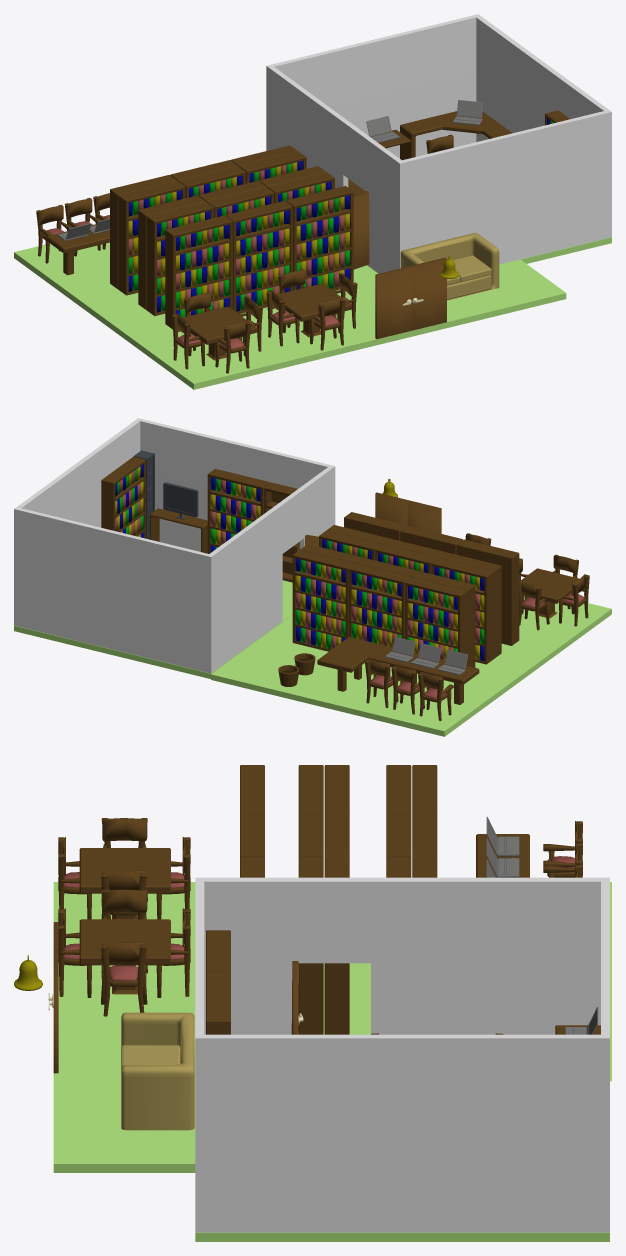
Rendered from blibioteca entera.fbx.
3 views of the same model, one above another, from view 1: azimuth 30°, elevation 25°; view 2: azimuth 150°, elevation 25°; view 3: azimuth 270°, elevation 25° (orthographic). The views are drawn at different scales.
Visible parts, largest first — view 1: Cuarto.Pared, PISO.001, Cuarto.Pared.001, Estante.007, Estante.005, Estante.006, Estante.013, Estante.010, Cuarto.Puerta.002, SOFA Base, Cuarto.Puerta.003, Masa (+25 smaller); view 2: Cuarto.Pared, PISO.001, Cuarto.Pared.001, Estante.016, Estante.015, Estante.014, Estante.002, Estante.020, Mesa Larga, Estante.017, Estante.007, Cuarto PISO (+22 smaller); view 3: Cuarto.Pared, Cuarto.Pared.001, PISO.001, SOFA Base, Cuarto PISO, Mesa.003, Mesa.001, Silla.013, Estante.019, Estante.008, Estante.002, Estante.009 (+22 smaller).
Boxes of the visible parts, x1,y1,x2,y2 form: Cuarto.Pared: [271, 14, 611, 268]; PISO.001: [14, 242, 566, 389]; Cuarto.Pared.001: [266, 64, 404, 273]; Estante.007: [165, 215, 232, 329]; Estante.005: [286, 186, 353, 290]; Estante.006: [226, 200, 293, 313]; Estante.013: [118, 181, 185, 295]; Estante.010: [146, 201, 213, 315]; Cuarto.Puerta.002: [375, 266, 411, 339]; SOFA Base: [400, 233, 499, 300]; Cuarto.Puerta.003: [410, 257, 446, 330]; Masa: [400, 111, 512, 160]; Cuarto.Pared: [14, 418, 330, 672]; PISO.001: [211, 596, 611, 736]; Cuarto.Pared.001: [206, 465, 335, 673]; Estante.016: [292, 550, 355, 651]; Estante.015: [348, 563, 411, 647]; Estante.014: [405, 577, 467, 665]; Estante.002: [207, 468, 270, 553]; Estante.020: [101, 456, 145, 538]; Mesa Larga: [317, 637, 479, 704]; Estante.017: [431, 558, 493, 664]; Estante.007: [456, 539, 519, 645]; Cuarto PISO: [14, 580, 292, 678]; Cuarto.Pared: [195, 881, 609, 1232]; Cuarto.Pared.001: [195, 877, 609, 1034]; PISO.001: [53, 882, 611, 1172]; SOFA Base: [121, 1012, 194, 1130]; Cuarto PISO: [195, 1232, 609, 1241]; Mesa.003: [79, 919, 170, 994]; Mesa.001: [79, 848, 170, 919]; Silla.013: [101, 942, 147, 1016]; Estante.019: [324, 856, 349, 1034]; Estante.008: [298, 856, 323, 1034]; Estante.002: [206, 976, 230, 1034]; Estante.009: [298, 810, 323, 856].
Size of the model in its own units: 2327 by 638 by 1675.
